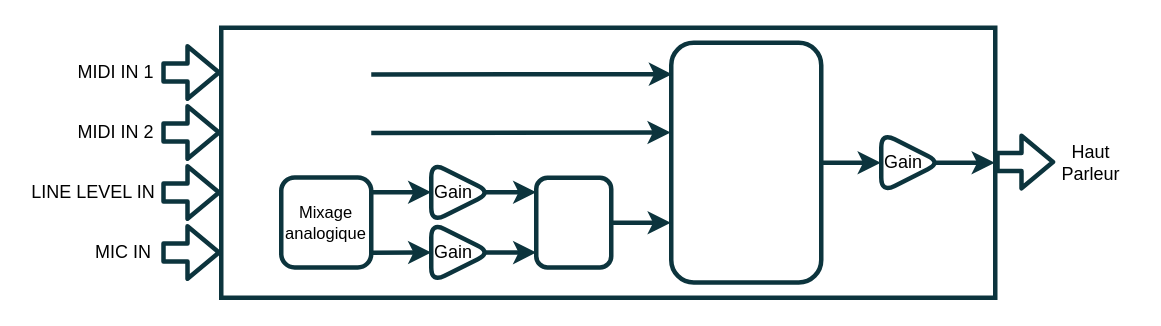
This 1161x326 diagram has some shape labels left out. The shapes that lost their labels are listed below. From the top down, each one's centre as x and y in pixels, then its label:
pixel 745 162: Synchronisation + Mixage
pixel 573 222: ADC
